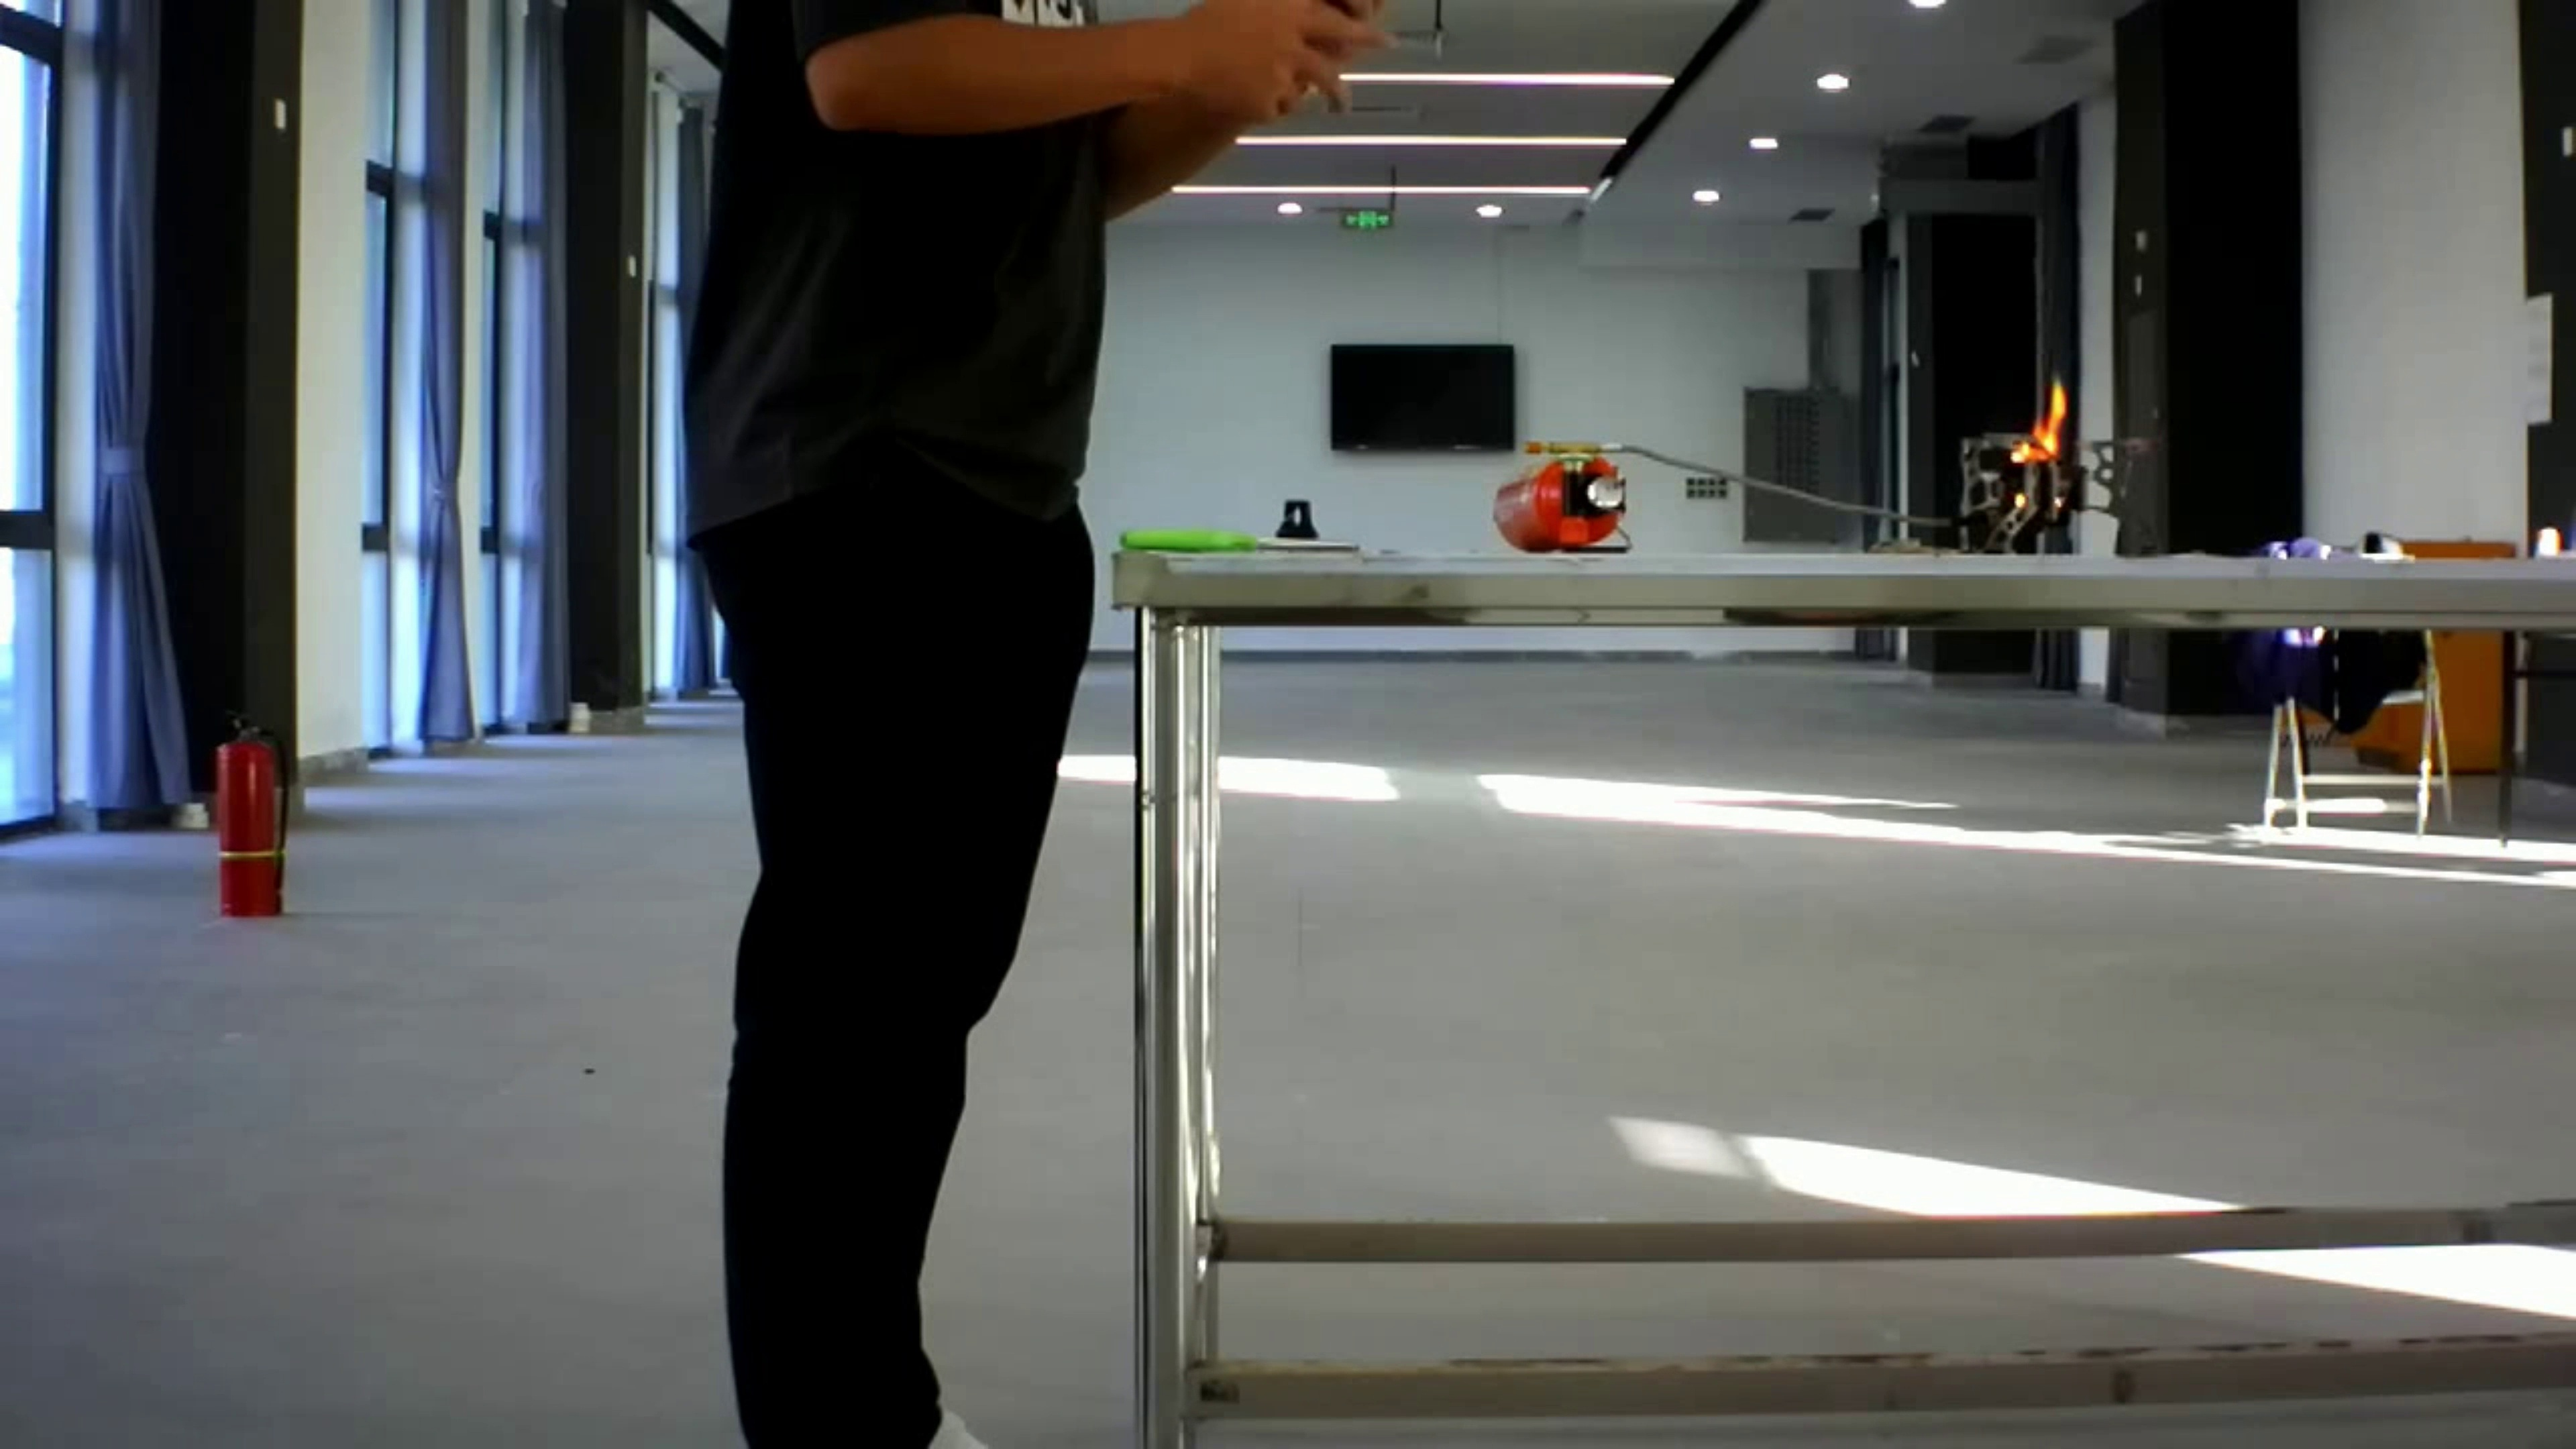Fire: (1987, 364, 2077, 495)
